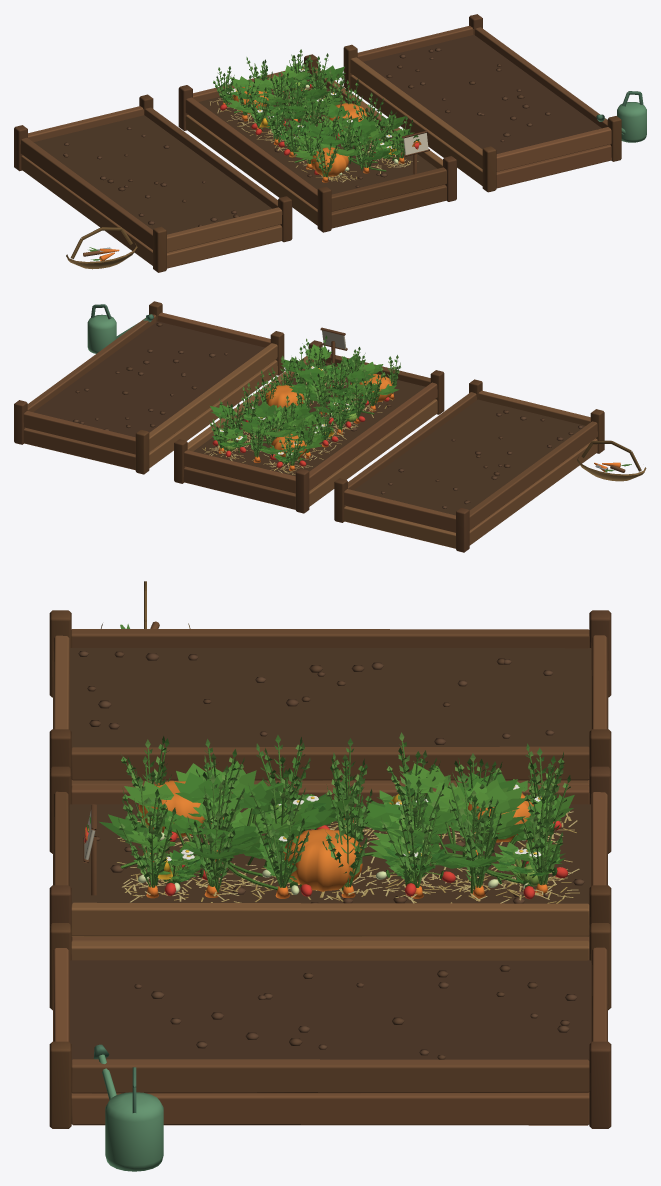
File: garden.glb
The picture shows the model from 3 angles, top to bottom: view 1: azimuth 30°, elevation 25°; view 2: azimuth 150°, elevation 25°; view 3: azimuth 270°, elevation 25°; orthographic projection. The views are drawn at different scales.
Parts seen in each view (by area): view 1: garden, garden_carrot_3, garden_pump_3, garden_carrot_2, garden_pump_2, garden_straw_3, garden_straw_2, garden_sign_carrot; view 2: garden, garden_carrot_3, garden_pump_3, garden_carrot_2, garden_straw_3, garden_pump_2, garden_straw_2, garden_sign_carrot; view 3: garden, garden_carrot_3, garden_pump_3, garden_straw_3, garden_carrot_2, garden_pump_2, garden_straw_2, garden_straw_1.
Boxes of the visible parts, x1=… form: garden: x1=14, y1=14, x2=646, y2=272; garden_carrot_3: x1=213, y1=49, x2=412, y2=182; garden_pump_3: x1=226, y1=62, x2=414, y2=176; garden_carrot_2: x1=217, y1=59, x2=405, y2=177; garden_pump_2: x1=243, y1=74, x2=396, y2=163; garden_straw_3: x1=213, y1=66, x2=406, y2=182; garden_straw_2: x1=210, y1=78, x2=410, y2=181; garden_sign_carrot: x1=402, y1=130, x2=429, y2=174; garden: x1=14, y1=301, x2=646, y2=552; garden_carrot_3: x1=209, y1=335, x2=400, y2=471; garden_pump_3: x1=210, y1=344, x2=399, y2=460; garden_carrot_2: x1=213, y1=348, x2=396, y2=464; garden_straw_3: x1=205, y1=364, x2=389, y2=473; garden_pump_2: x1=222, y1=366, x2=375, y2=454; garden_straw_2: x1=204, y1=369, x2=386, y2=474; garden_sign_carrot: x1=320, y1=327, x2=347, y2=367; garden: x1=49, y1=581, x2=611, y2=1171; garden_carrot_3: x1=118, y1=732, x2=570, y2=898; garden_pump_3: x1=99, y1=761, x2=574, y2=893; garden_straw_3: x1=117, y1=779, x2=579, y2=903; garden_carrot_2: x1=134, y1=756, x2=554, y2=892; garden_pump_2: x1=144, y1=779, x2=552, y2=886; garden_straw_2: x1=122, y1=796, x2=579, y2=903; garden_straw_1: x1=117, y1=811, x2=573, y2=903.
Size of the model in its own units: 3.49 by 0.4167 by 1.52.
